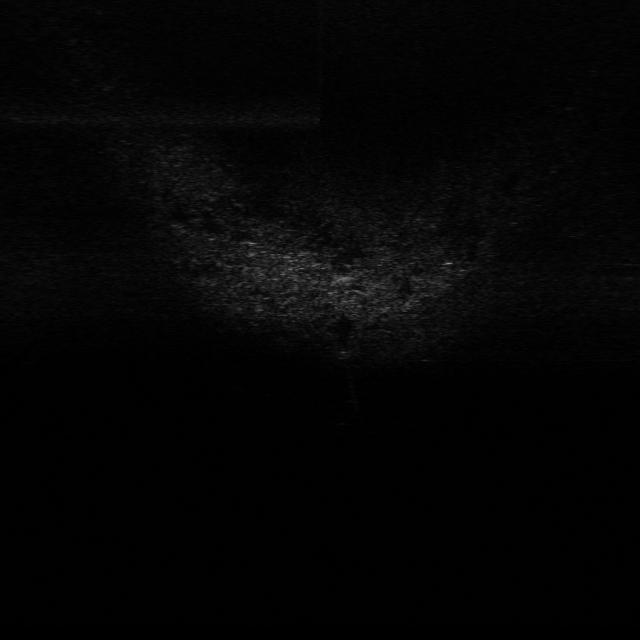cube: (331, 342, 357, 362)
